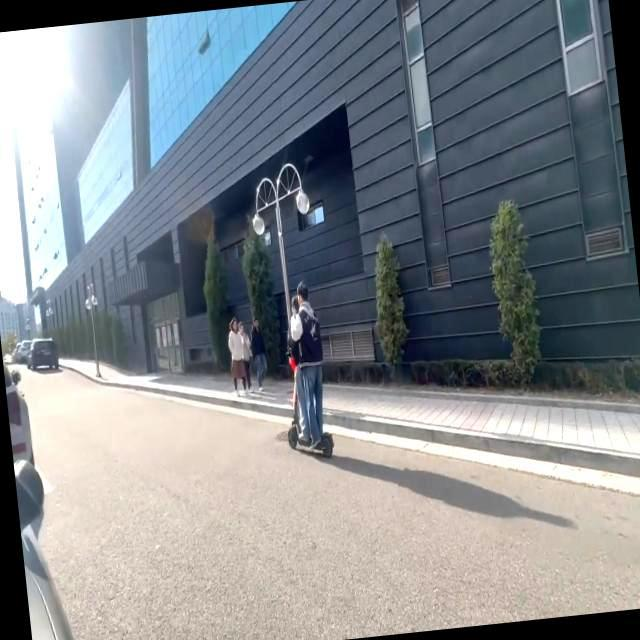bare_head: (294, 281, 309, 306), (287, 297, 302, 319)
human: (296, 278, 329, 444), (286, 301, 314, 443)
kickboard: (281, 424, 342, 459)
